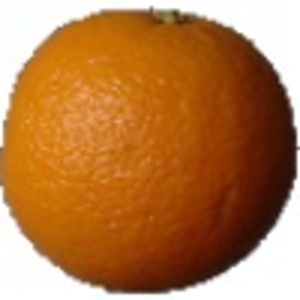laranja: (3, 2, 297, 295)
